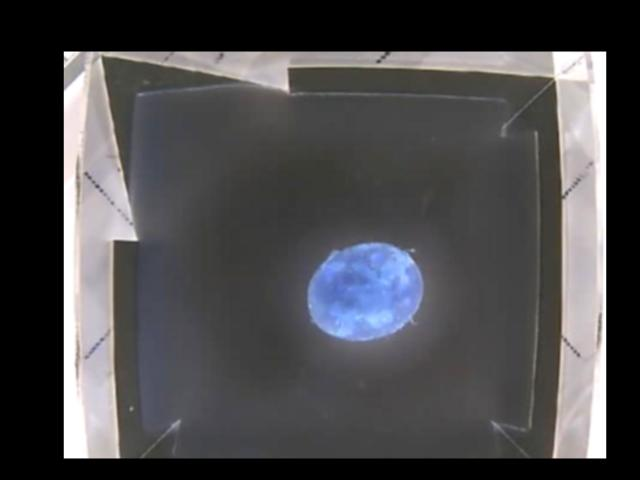Potato: (306, 243, 424, 340)
